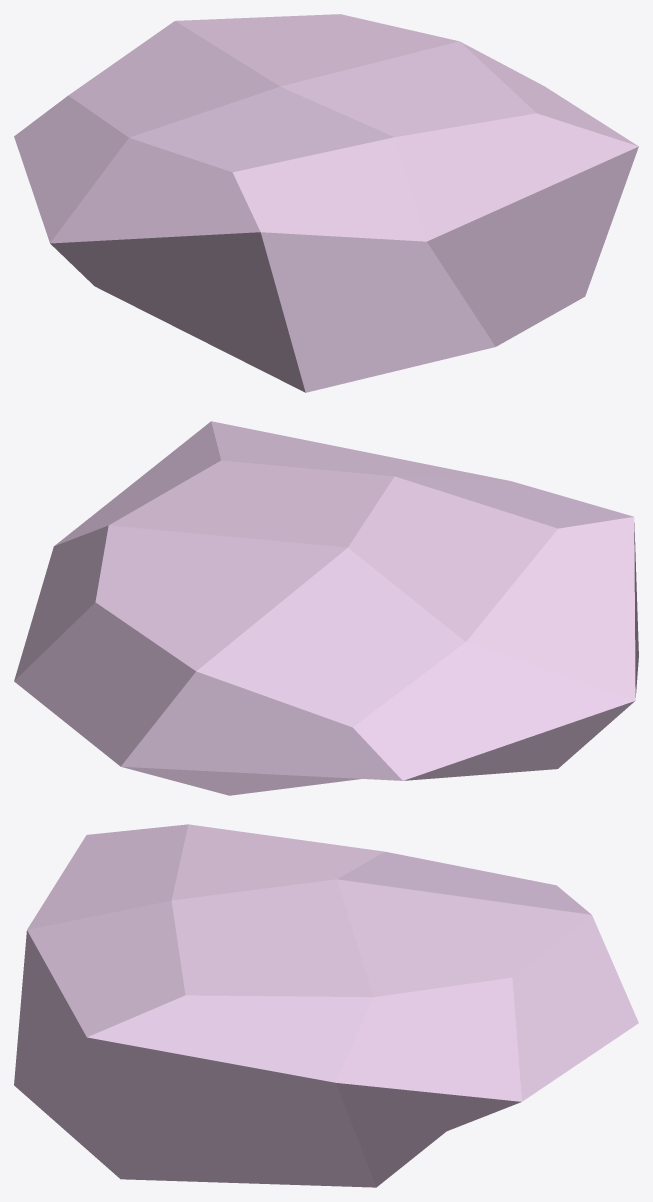
Rendered from Kamien3.fbx.
3 renders of one model, top to bottom at view 1: azimuth 30°, elevation 25°; view 2: azimuth 150°, elevation 25°; view 3: azimuth 270°, elevation 25°, orthographic. The views are drawn at different scales.
Parts seen in each view (by area): view 1: Kostka; view 2: Kostka; view 3: Kostka.
Part boxes in pixels (left/top/right/bottom): Kostka: left=14, top=14, right=638, bottom=392; Kostka: left=14, top=421, right=638, bottom=795; Kostka: left=14, top=824, right=638, bottom=1187.
Bounding box in the file's own units: 215 × 82.54 × 215.
